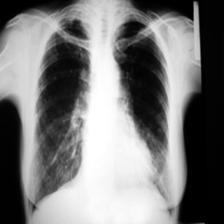tuberculosis: (26, 11, 175, 215)
